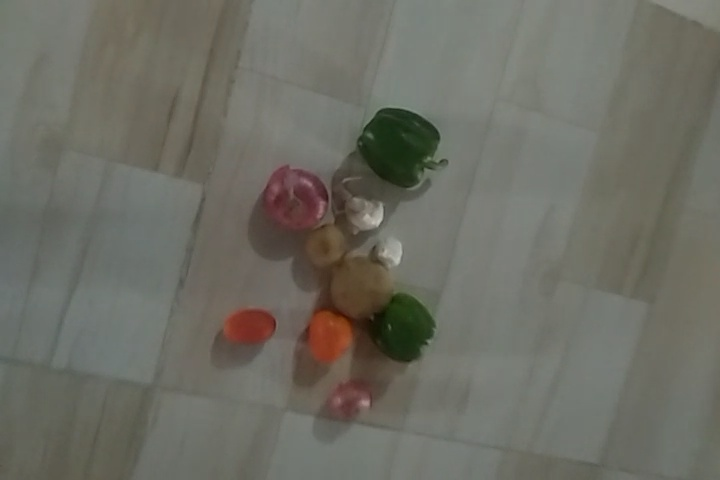capsicum: (352, 109, 438, 189), (378, 296, 429, 368)
garlic: (347, 195, 387, 241), (374, 241, 408, 268)
onion: (262, 163, 328, 232), (332, 384, 373, 424)
potato: (328, 258, 391, 317), (302, 226, 345, 267)
tomato: (224, 304, 284, 346), (306, 309, 348, 363)
